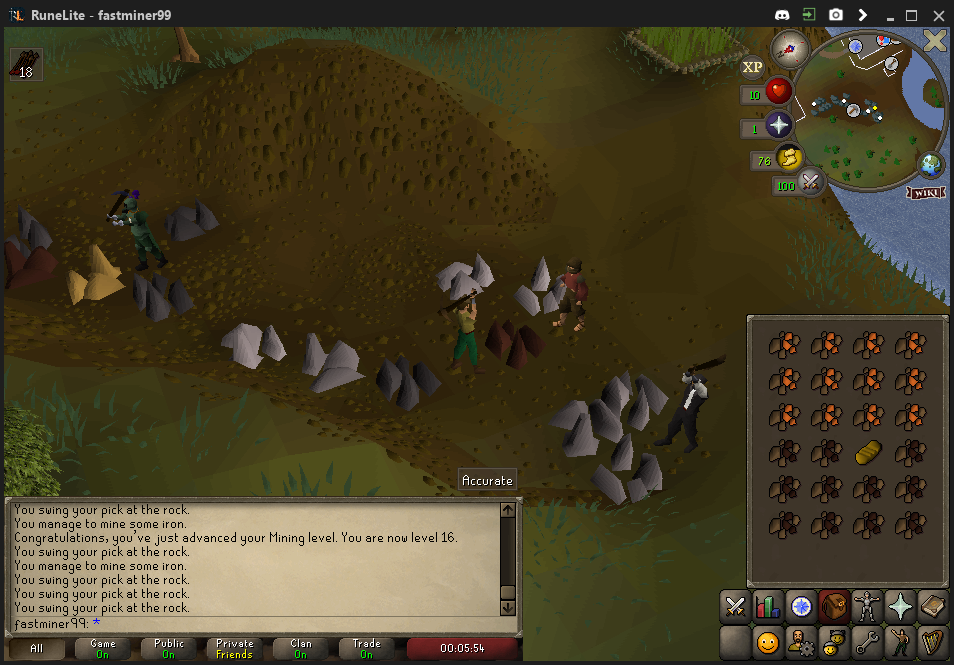depleted: (375, 349, 442, 408), (128, 270, 195, 323), (162, 200, 224, 247), (1, 210, 57, 256)
ore: (484, 313, 546, 368), (1, 248, 77, 283)
